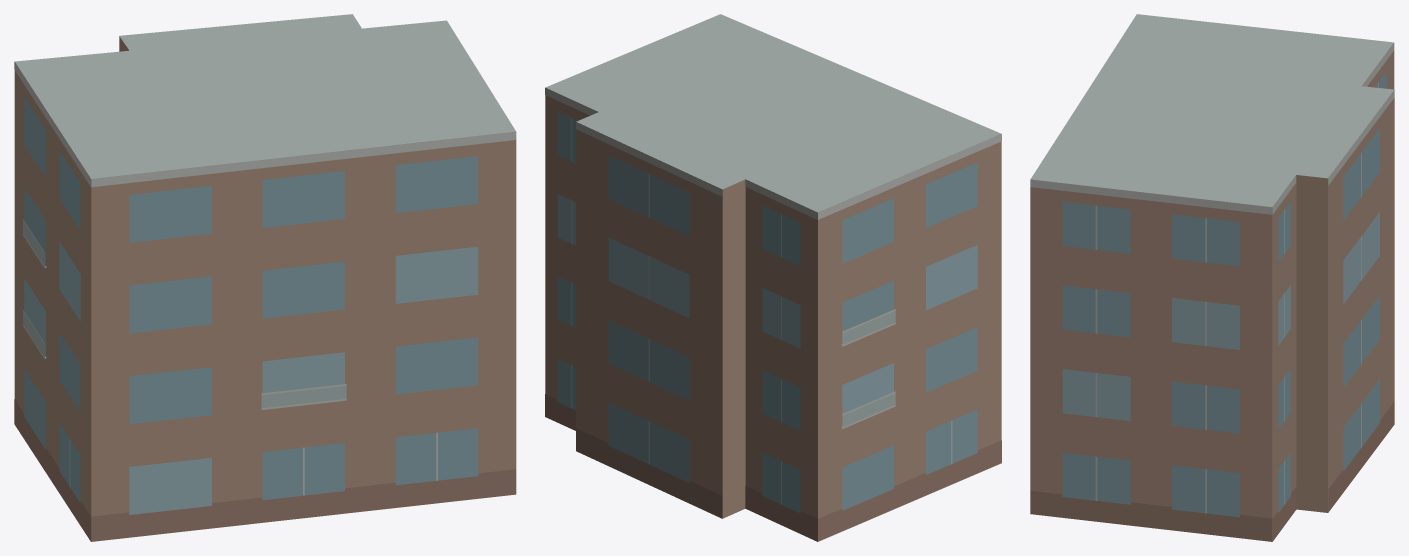
The model's file is survey-upis-33001141.glb.
The picture shows the model from 3 angles, left to right: view 1: azimuth 30°, elevation 25°; view 2: azimuth 150°, elevation 25°; view 3: azimuth 270°, elevation 25°; orthographic projection. The views are drawn at different scales.
Visible parts, largest first — view 1: survey-upis-33001141.tmp; view 2: survey-upis-33001141.tmp; view 3: survey-upis-33001141.tmp.
Part boxes in pixels (left/top/right/bottom): survey-upis-33001141.tmp: left=14, top=14, right=516, bottom=541; survey-upis-33001141.tmp: left=545, top=14, right=1001, bottom=541; survey-upis-33001141.tmp: left=1030, top=14, right=1394, bottom=541.
Bounding box in the file's own units: 13.26 × 10.7 × 10.57.
